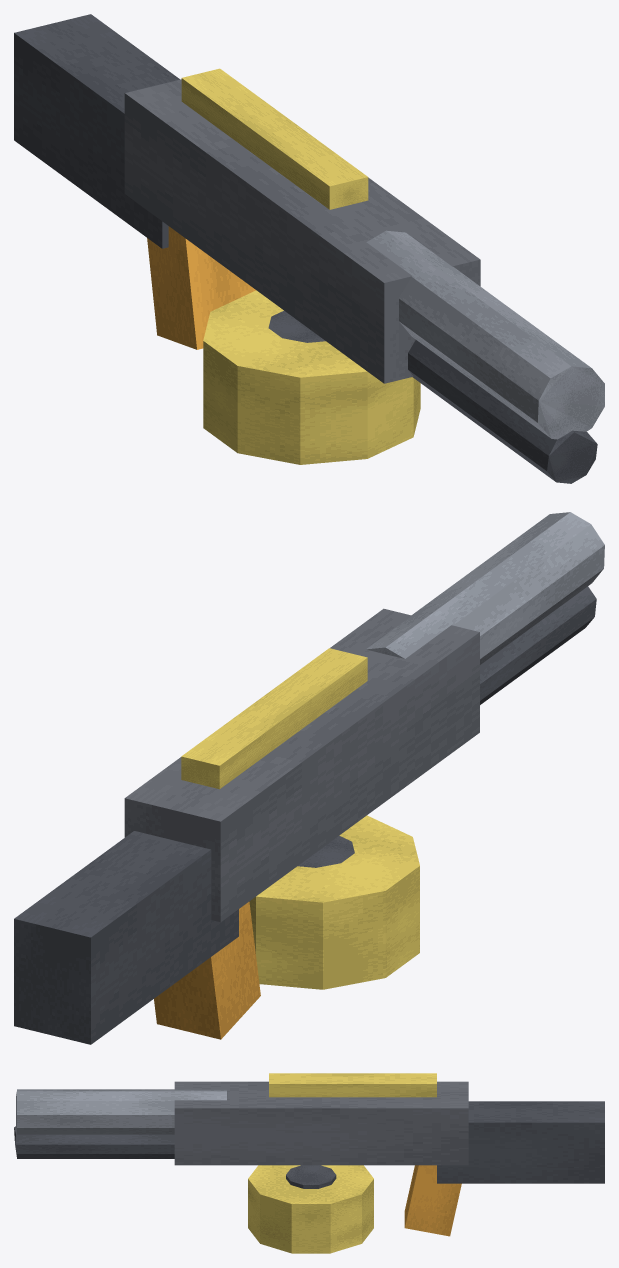
The model's file is weapon_autoshotgun.glb.
3 renders of one model, top to bottom at view 1: azimuth 30°, elevation 25°; view 2: azimuth 150°, elevation 25°; view 3: azimuth 270°, elevation 25°, orthographic. The views are drawn at different scales.
Visible parts, largest first — view 1: weapon_autoshotgun; view 2: weapon_autoshotgun; view 3: weapon_autoshotgun.
Part boxes in pixels (x1,y1,x2,y2): weapon_autoshotgun: (14,14,604,483); weapon_autoshotgun: (14,512,604,1044); weapon_autoshotgun: (14,1073,604,1253).
Size of the model in its own units: 0.5706 by 0.805 by 2.81.
Materials: 1 (1 with a texture image).
